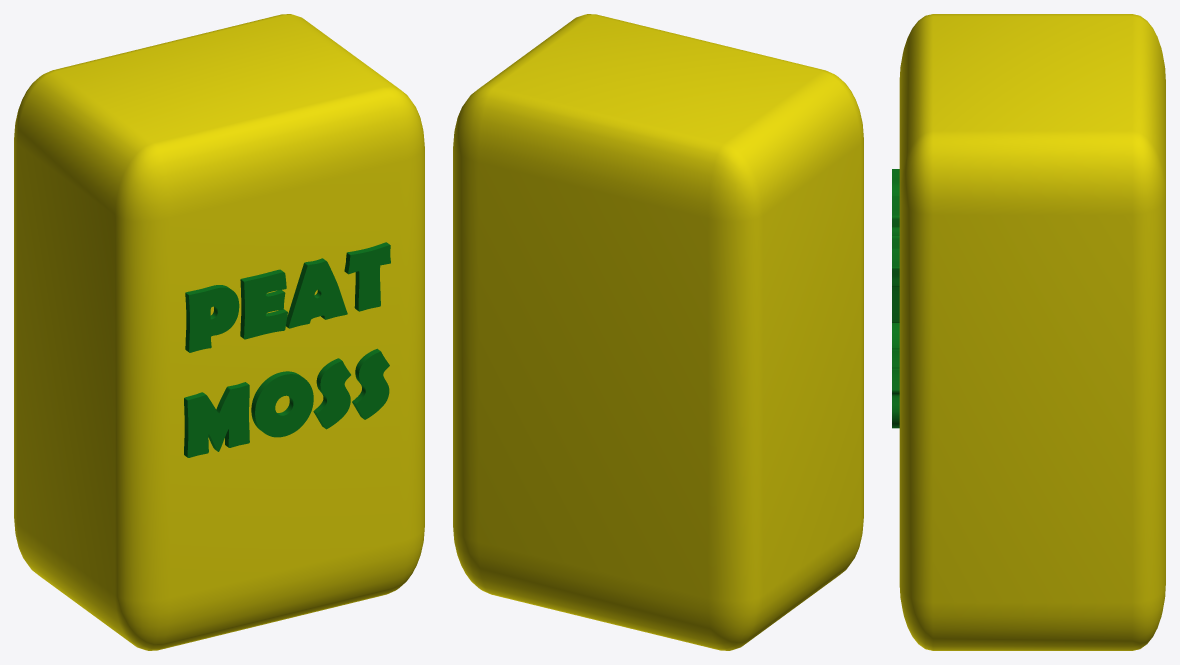
The model's file is Peat.fbx.
The picture shows the model from 3 angles, left to right: view 1: azimuth 30°, elevation 25°; view 2: azimuth 150°, elevation 25°; view 3: azimuth 270°, elevation 25°; orthographic projection. The views are drawn at different scales.
Visible parts, largest first — view 1: Cube.232; view 2: Cube.232; view 3: Cube.232.
Part boxes in pixels (box(x1,y1,x2,y2)): Cube.232: box(14, 14, 424, 650); Cube.232: box(453, 14, 863, 650); Cube.232: box(892, 14, 1165, 650).
Bounding box in the file's own units: 39.07 × 61.68 × 29.6.
